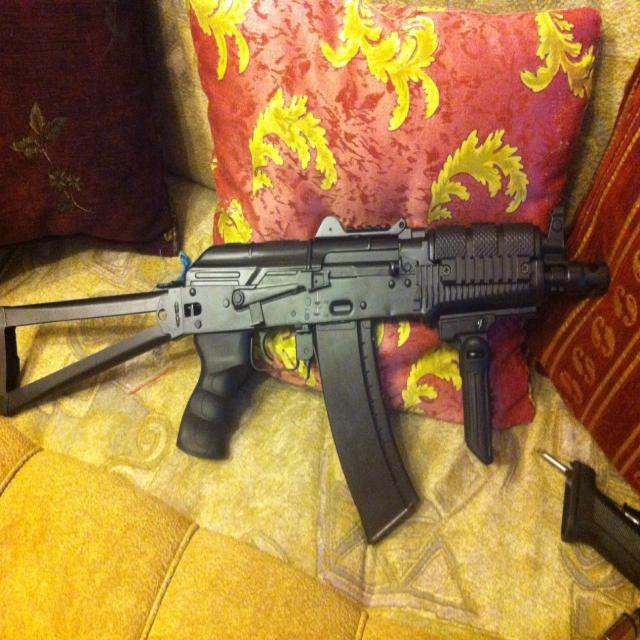firearm: (0, 203, 614, 550)
